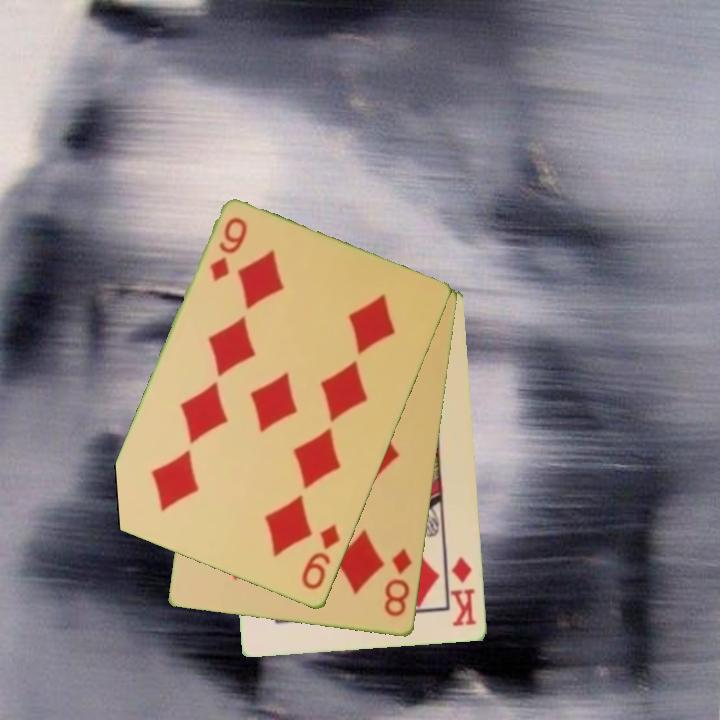8d: (381, 545, 415, 620)
9d: (298, 521, 344, 593), (206, 214, 251, 285)
Kd: (447, 554, 480, 630)
